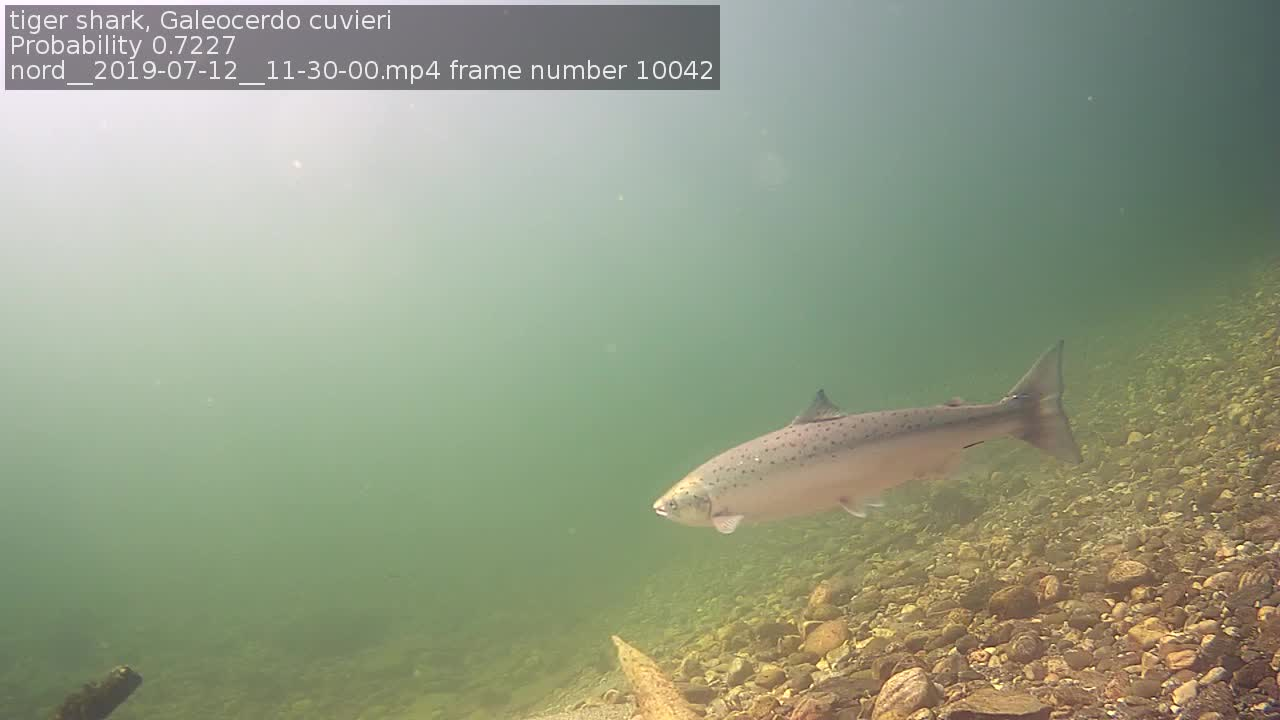salmon: (651, 338, 1082, 536)
